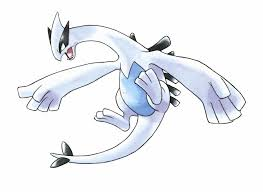lugia: (47, 12, 86, 61)
